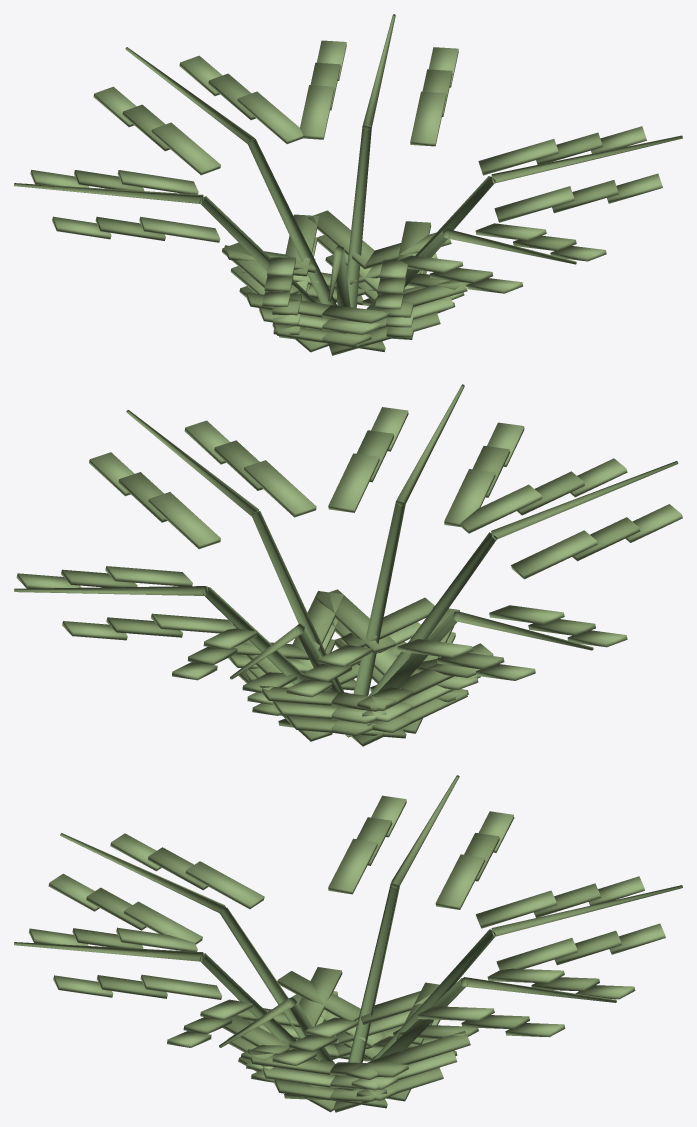
File: fern.glb
The picture shows the model from 3 angles, top to bottom: view 1: azimuth 30°, elevation 25°; view 2: azimuth 150°, elevation 25°; view 3: azimuth 270°, elevation 25°; orthographic projection. The views are drawn at different scales.
Visible parts, largest first — view 1: geometry_0; view 2: geometry_0; view 3: geometry_0.
Part boxes in pixels (left/top/right/bottom): geometry_0: left=14, top=14, right=682, bottom=355; geometry_0: left=14, top=384, right=682, bottom=746; geometry_0: left=14, top=775, right=682, bottom=1112.
Bounding box in the file's own units: 1.13 × 0.3721 × 1.18.
